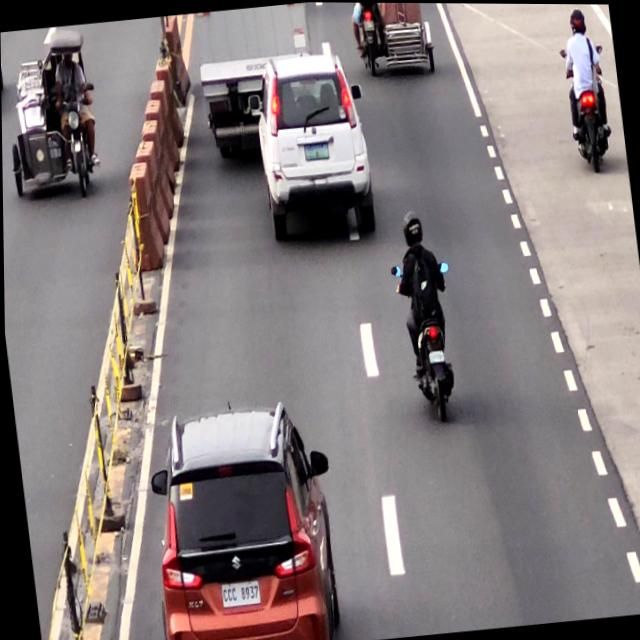Car: (141, 400, 346, 640), (255, 58, 364, 241)
License-Plate: (216, 576, 260, 609), (302, 140, 331, 161), (426, 350, 443, 364)
Motorcycle: (389, 213, 462, 418), (558, 5, 611, 170)
Tricycle: (352, 2, 436, 76)
